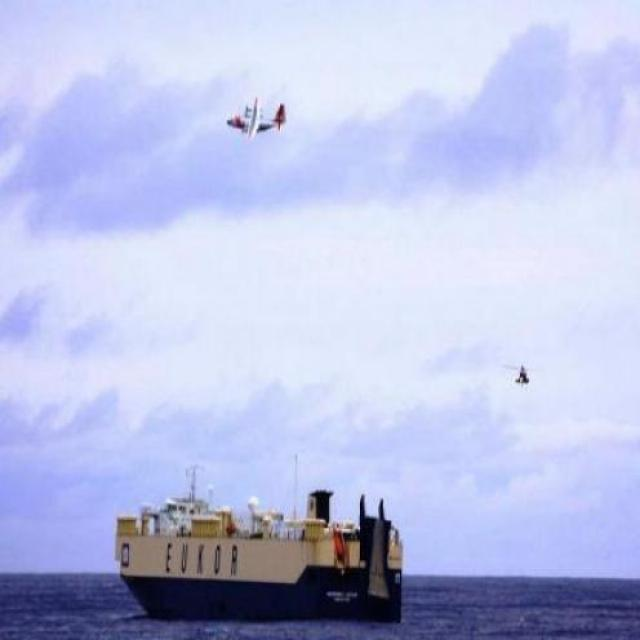boat: (108, 463, 417, 630)
